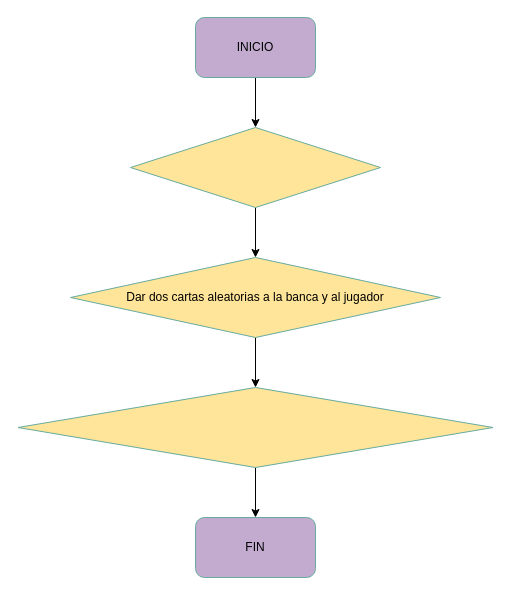
Some shapes in this 510 by 595 pixel diagram are drawn without their labels. The centre of each missing label's shape, as x and y in pixels:
printear cartas y valores: point 255,167
printear las cartas del jugador y la banca y la suma de sus puntos: point 255,427
